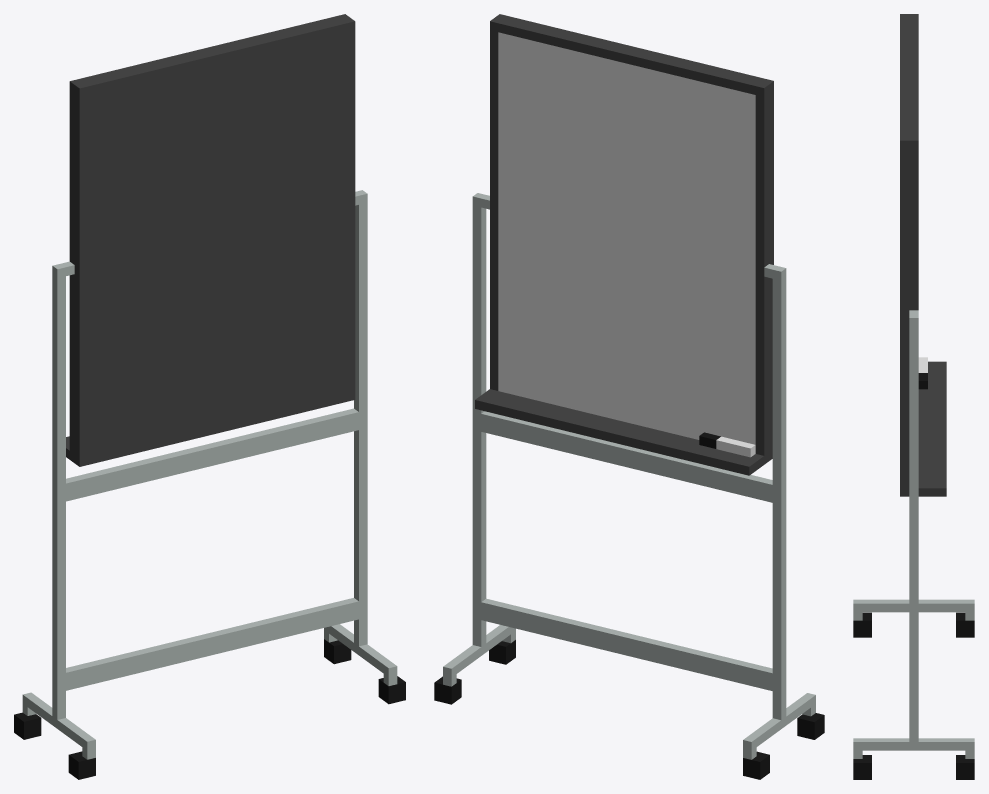
File: board_white_01.glb
The picture shows the model from 3 angles, left to right: view 1: azimuth 30°, elevation 25°; view 2: azimuth 150°, elevation 25°; view 3: azimuth 270°, elevation 25°; orthographic projection. The views are drawn at different scales.
Visible parts, largest first — view 1: Untitled; view 2: Untitled; view 3: Untitled.
Part boxes in pixels (<box>): Untitled: <box>14,14,405,779</box>; Untitled: <box>434,14,824,779</box>; Untitled: <box>853,14,974,779</box>.
Bounding box in the file's own units: 1.14 × 2.22 × 0.39.
Materials: 1 (1 with a texture image).
